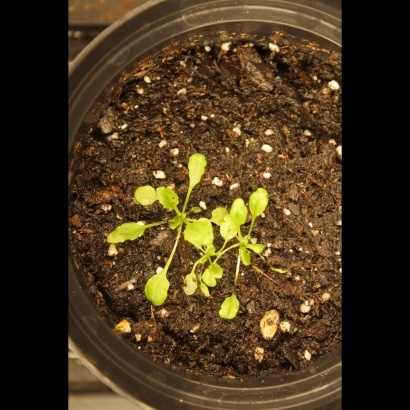leaf: (100, 220, 154, 254), (144, 259, 174, 314), (180, 146, 214, 191), (180, 219, 216, 249), (155, 181, 185, 216), (220, 292, 247, 327), (249, 186, 272, 226), (130, 181, 161, 209), (228, 197, 251, 226), (178, 272, 201, 295), (191, 278, 214, 301), (205, 262, 228, 285), (218, 217, 241, 240), (210, 203, 233, 226), (233, 247, 256, 270), (271, 254, 294, 277), (244, 236, 267, 259)
